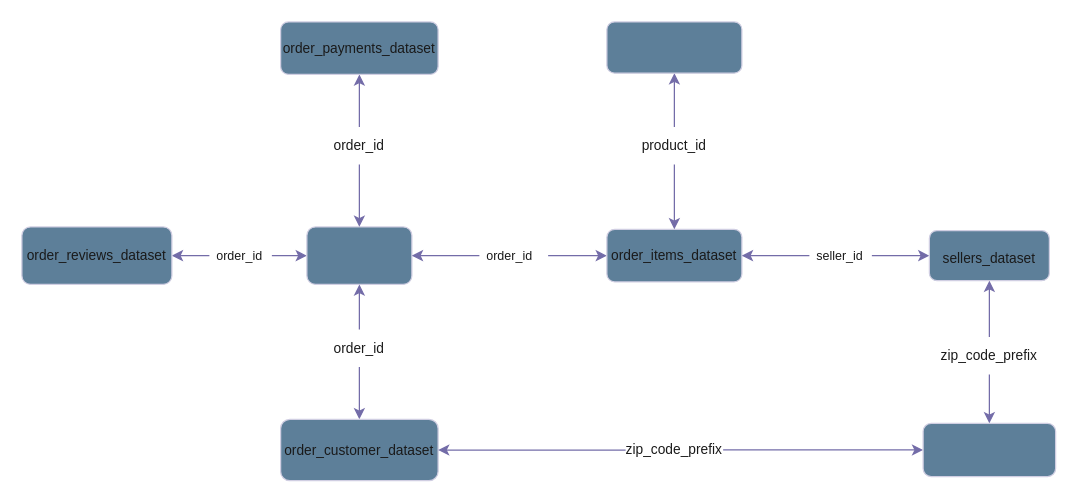
Image size: 1078x503. Some labels were removed from this diagram. The centre of each missing label's shape, as x and y in pixels:
geolocation_dataset: [989,449]
orders_dataset: [359,255]
products_dataset: [674,47]
